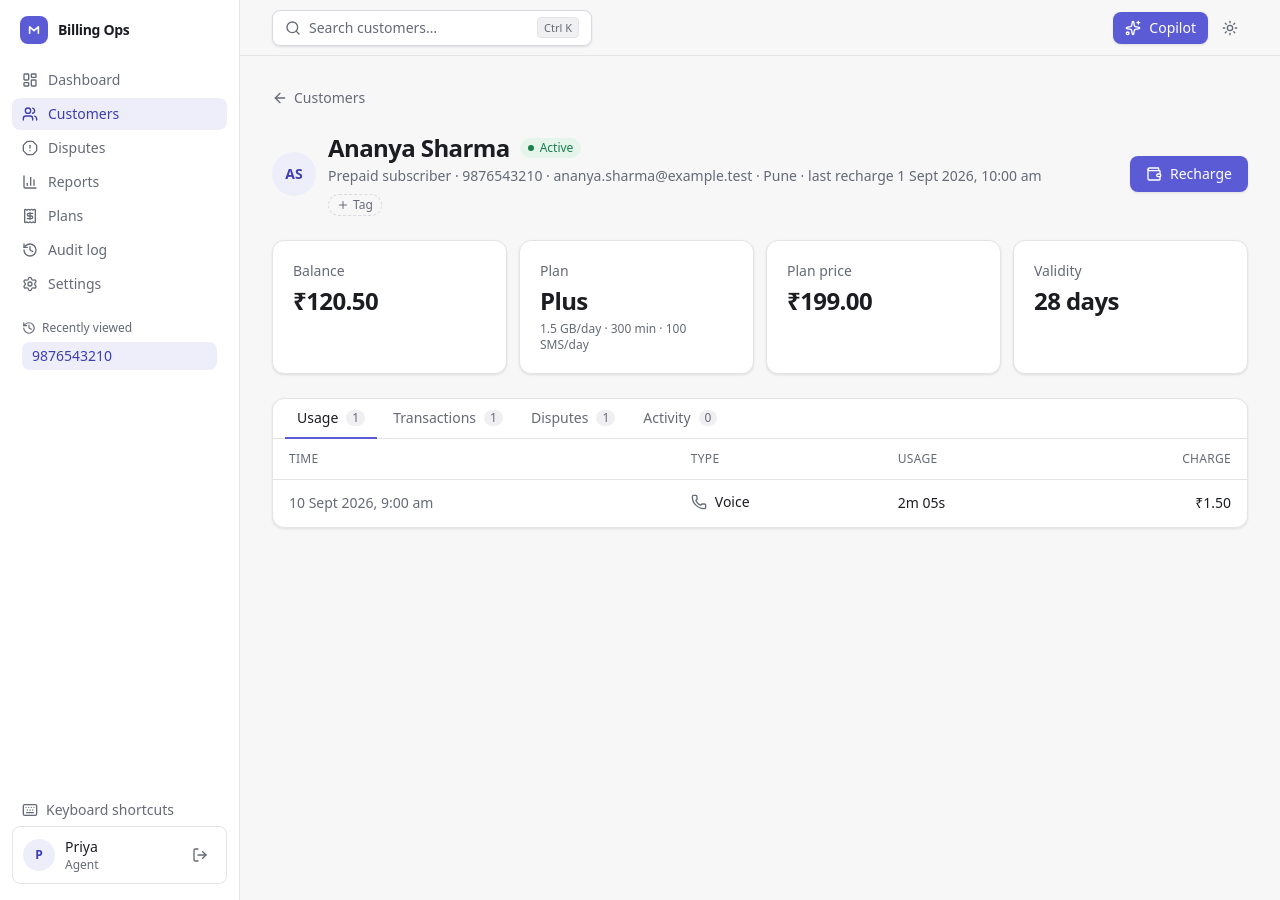
Test: Copilot drawer › shows the server's message and lets the agent retry
Click the button with test id "copilot-open". click: [1161, 28]
box: x1=1113 y1=12 x2=1208 y2=44
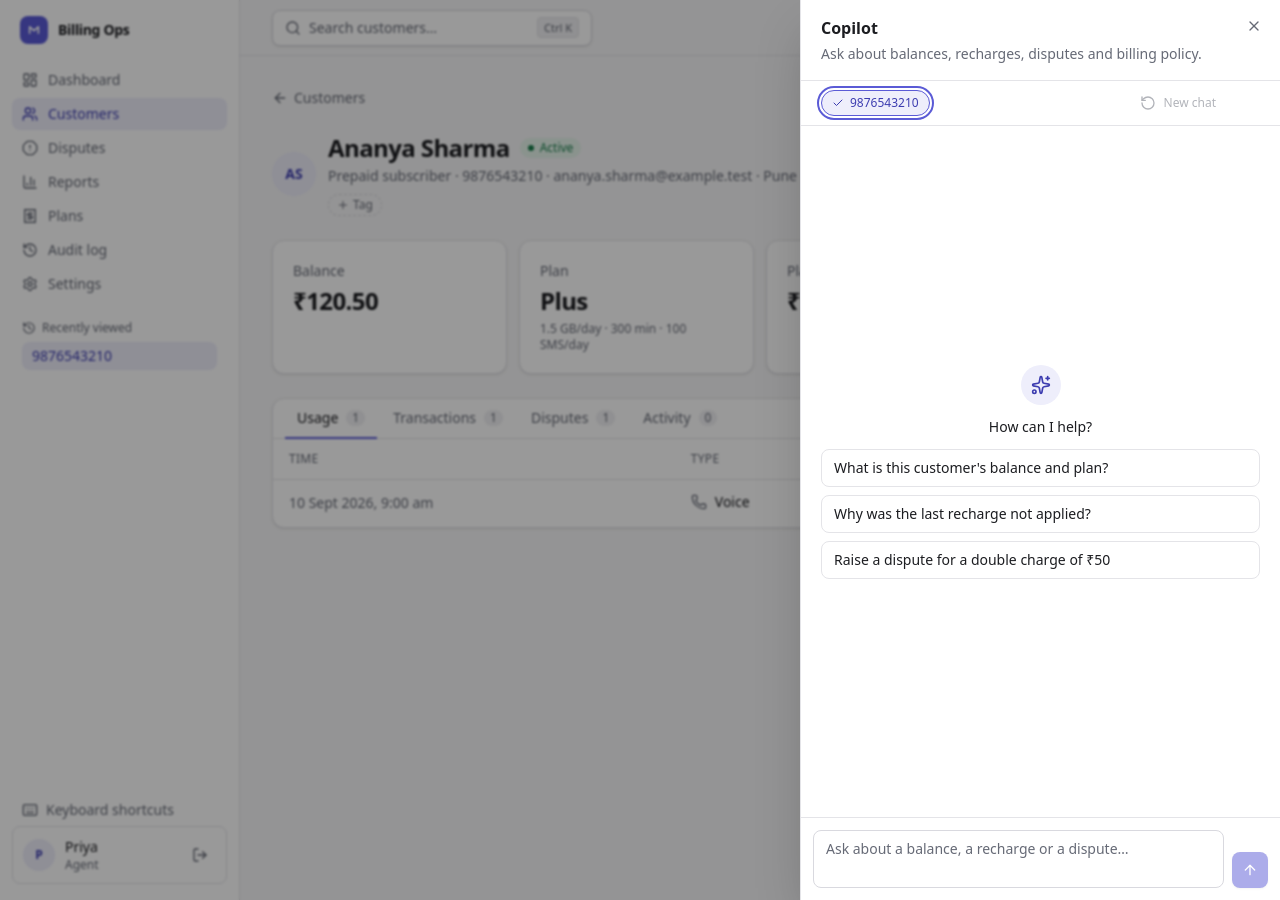
Type "balance?" into the text box with test id "copilot-input". click: [1018, 859]
box: x1=813 y1=830 x2=1224 y2=888
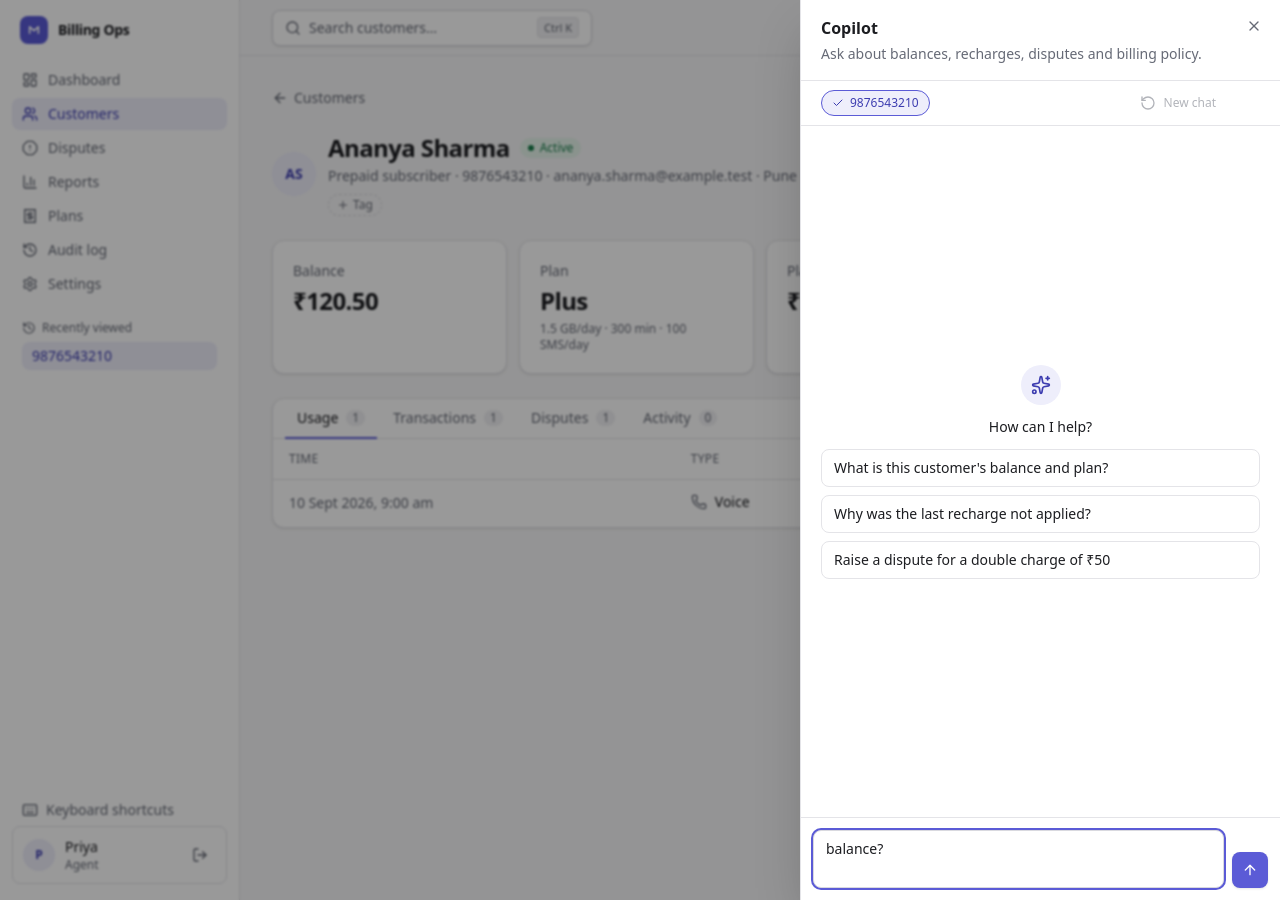
Press Enter
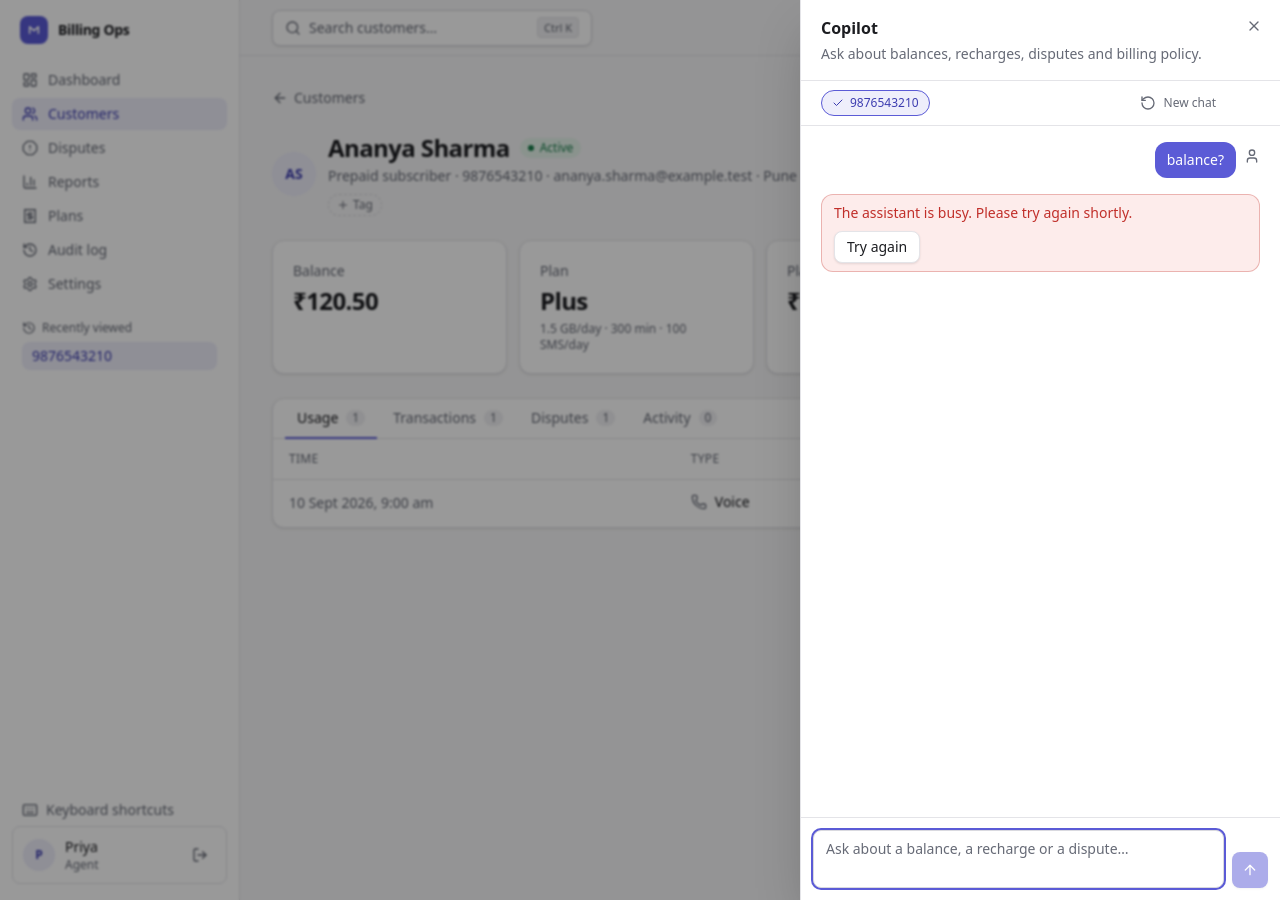
Expected: the message with test id "copilot-error" shows "busy", x1=834 y1=203 x2=1132 y2=222
Click the button with test id "copilot-retry". click: [877, 247]
box: x1=834 y1=231 x2=920 y2=263
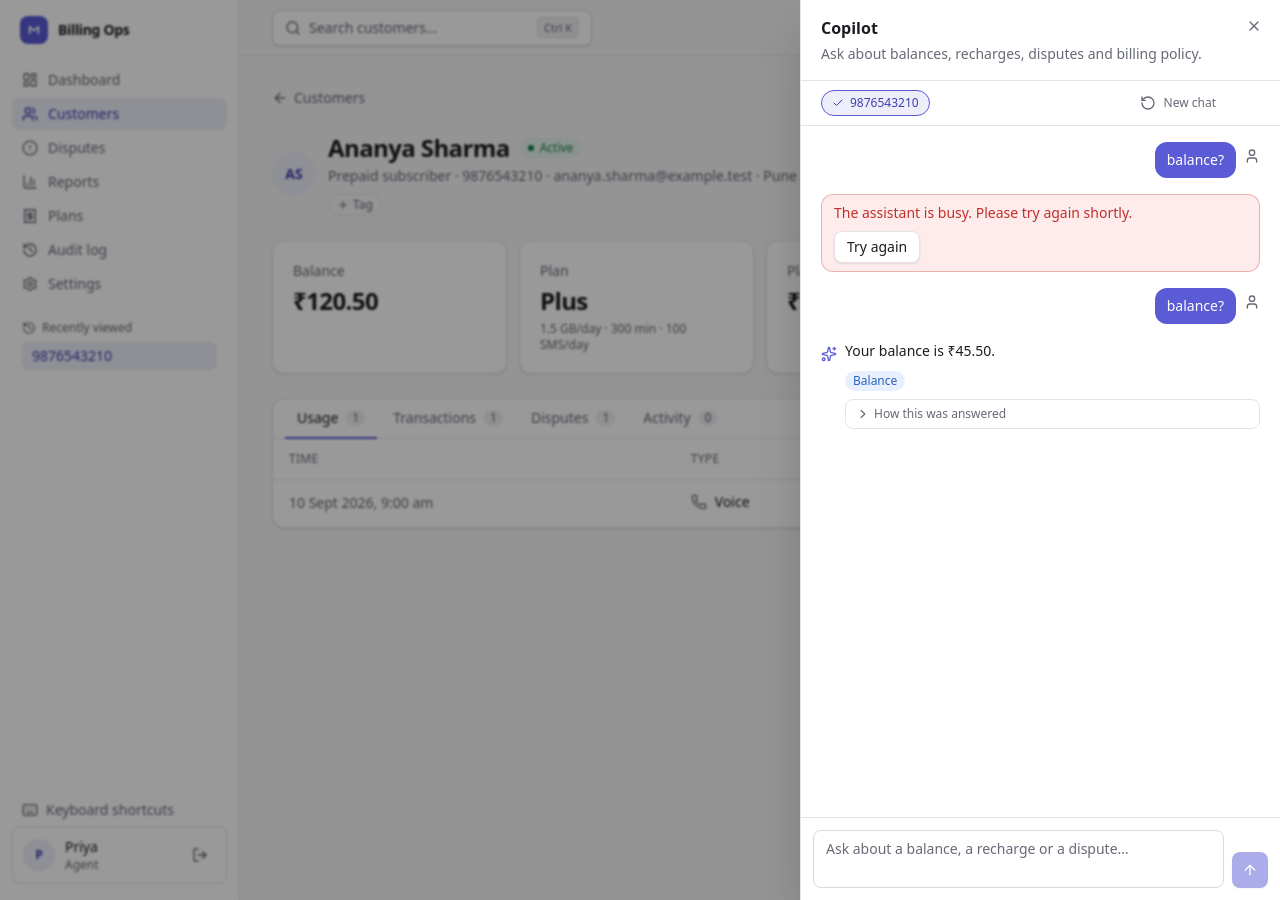
Expected: the text "Your balance is ₹45.50." is shown, x1=845 y1=341 x2=995 y2=360
